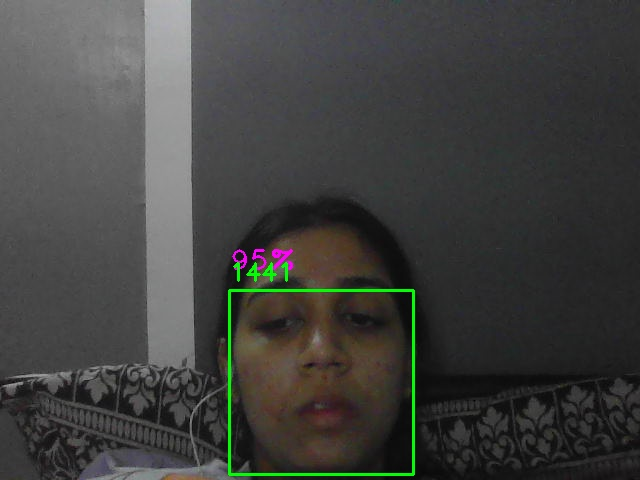real: (229, 290, 414, 475)
